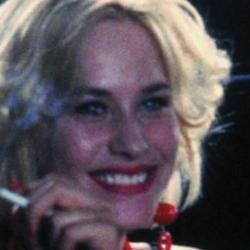face: (1, 1, 236, 231)
